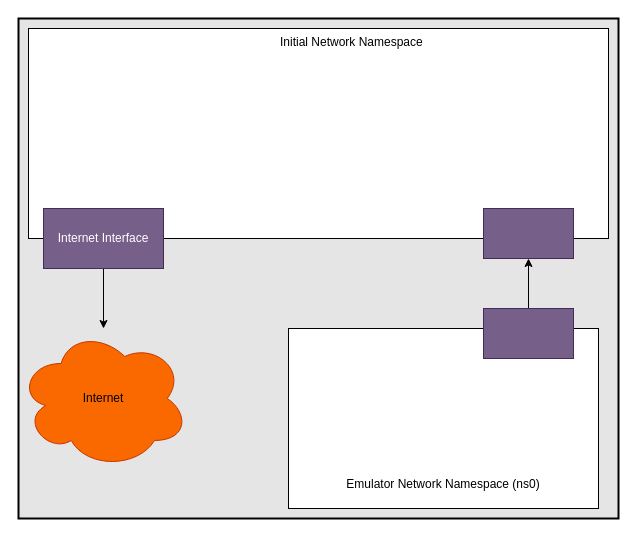
Some shapes in this 636 by 536 pixel diagram are drawn without their labels. The shapes that lost their labels are listed below. From the top down, each one's centre as x and y in pixels, then its label:
At point 528,233: "veth0 192.168.123.1".
At point 528,333: "veth1 192.168.123.2 default gateway".
